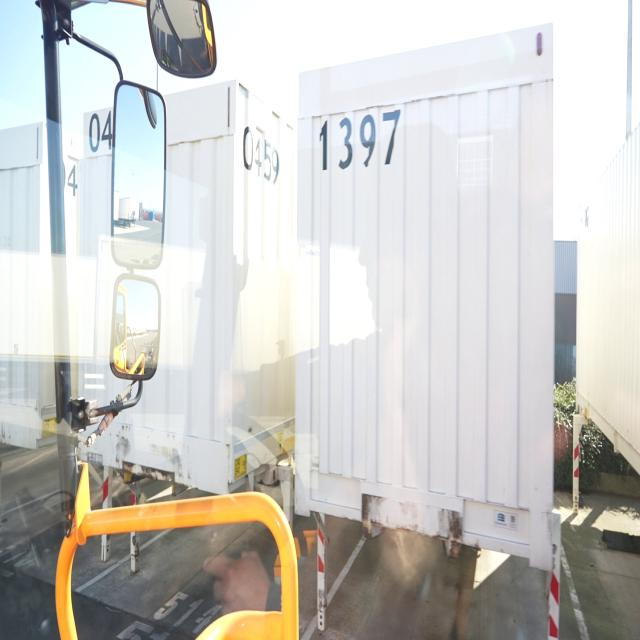Code: (318, 106, 405, 178), (241, 120, 282, 194)
